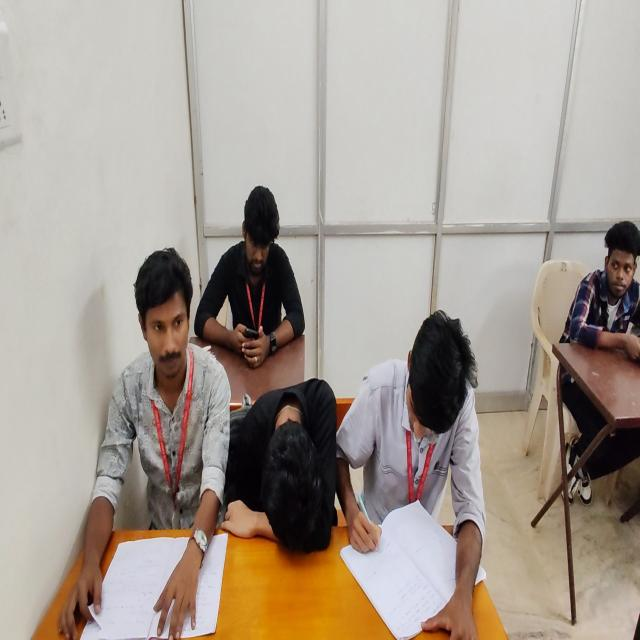listening: (58, 248, 234, 640), (555, 216, 639, 507)
sleeping: (224, 376, 334, 555)
using_mobile: (193, 183, 305, 366)
writing: (340, 313, 479, 640)
